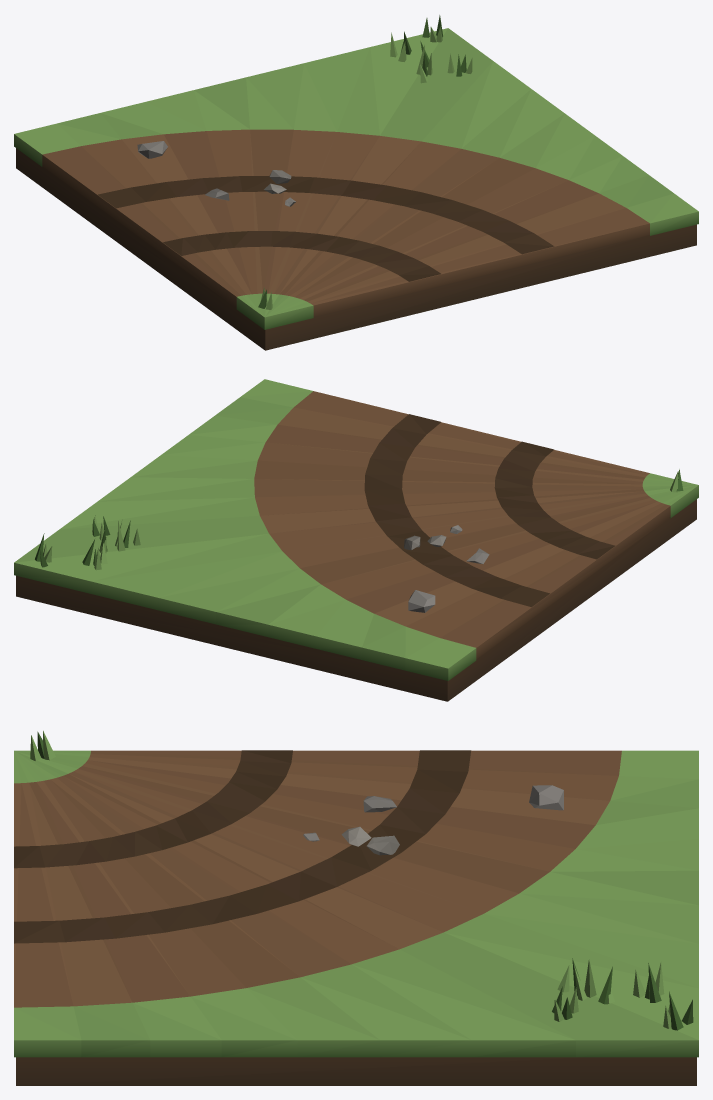
File: road-dirt-corner.glb
The picture shows the model from 3 angles, top to bottom: view 1: azimuth 30°, elevation 25°; view 2: azimuth 150°, elevation 25°; view 3: azimuth 270°, elevation 25°; orthographic projection. The views are drawn at different scales.
Parts seen in each view (by area): view 1: road_dirt_corner; view 2: road_dirt_corner; view 3: road_dirt_corner.
Part boxes in pixels (bbox=[...]): road_dirt_corner: bbox=[14, 15, 698, 350]; road_dirt_corner: bbox=[14, 379, 698, 701]; road_dirt_corner: bbox=[14, 730, 698, 1085].
Size of the model in its own units: 4 by 0.5515 by 4.
